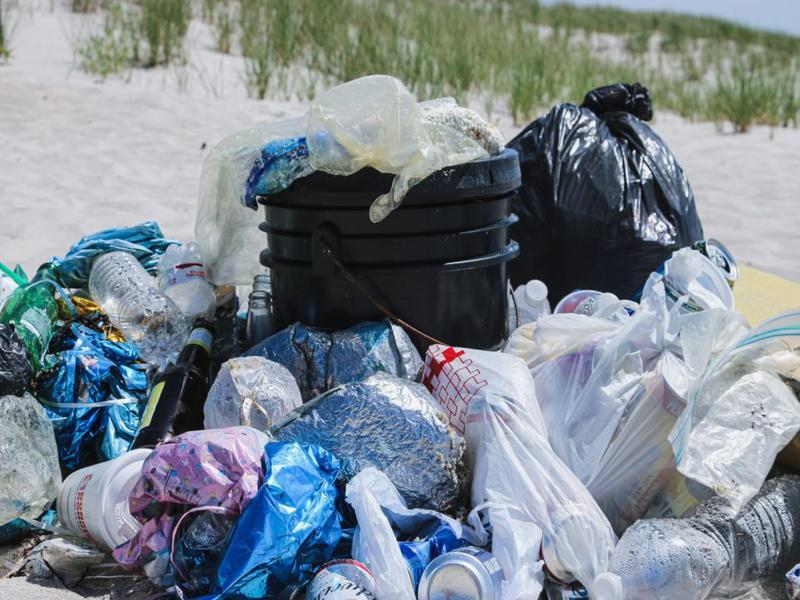bottle: (580, 475, 800, 600), (84, 249, 191, 368), (128, 313, 217, 447)
plastic: (512, 73, 718, 300), (510, 314, 678, 523), (305, 65, 508, 227), (668, 314, 792, 516), (201, 439, 351, 599), (339, 467, 464, 597), (33, 322, 149, 459), (414, 340, 544, 449), (200, 352, 304, 433)
